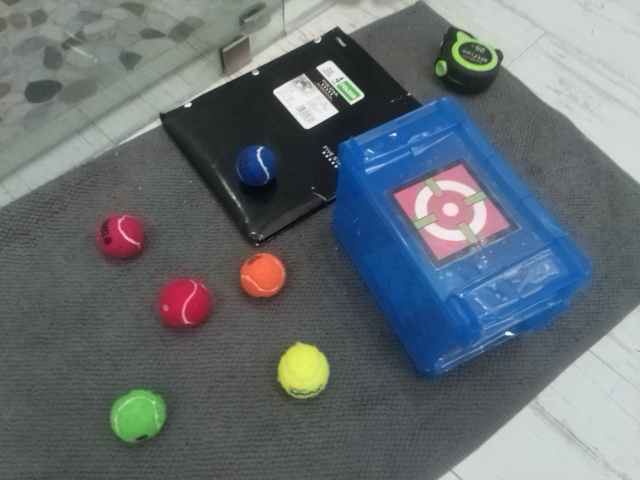blue-ball: (234, 143, 279, 188)
drop-bin: (385, 158, 520, 267)
green-ball: (107, 387, 167, 446)
orange-ball: (238, 251, 286, 300)
red-ball: (158, 276, 213, 330), (96, 212, 148, 261)
yellow-ball: (275, 341, 331, 400)
